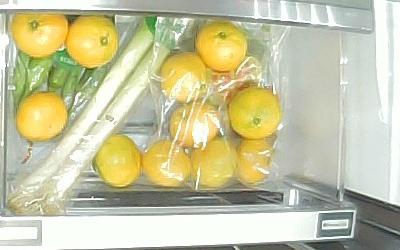tangerine: (68, 16, 118, 68), (16, 91, 67, 140), (11, 14, 67, 57)
tangerine_vinyl: (228, 87, 281, 139), (196, 21, 247, 73), (94, 134, 143, 188), (143, 139, 191, 187), (161, 52, 207, 102), (169, 102, 218, 147), (192, 139, 237, 188), (237, 139, 272, 184)
